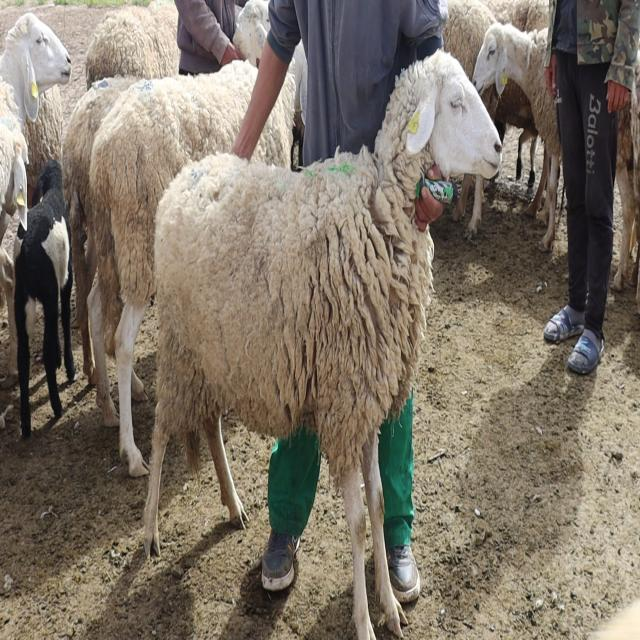Score_3: (144, 50, 501, 639)
